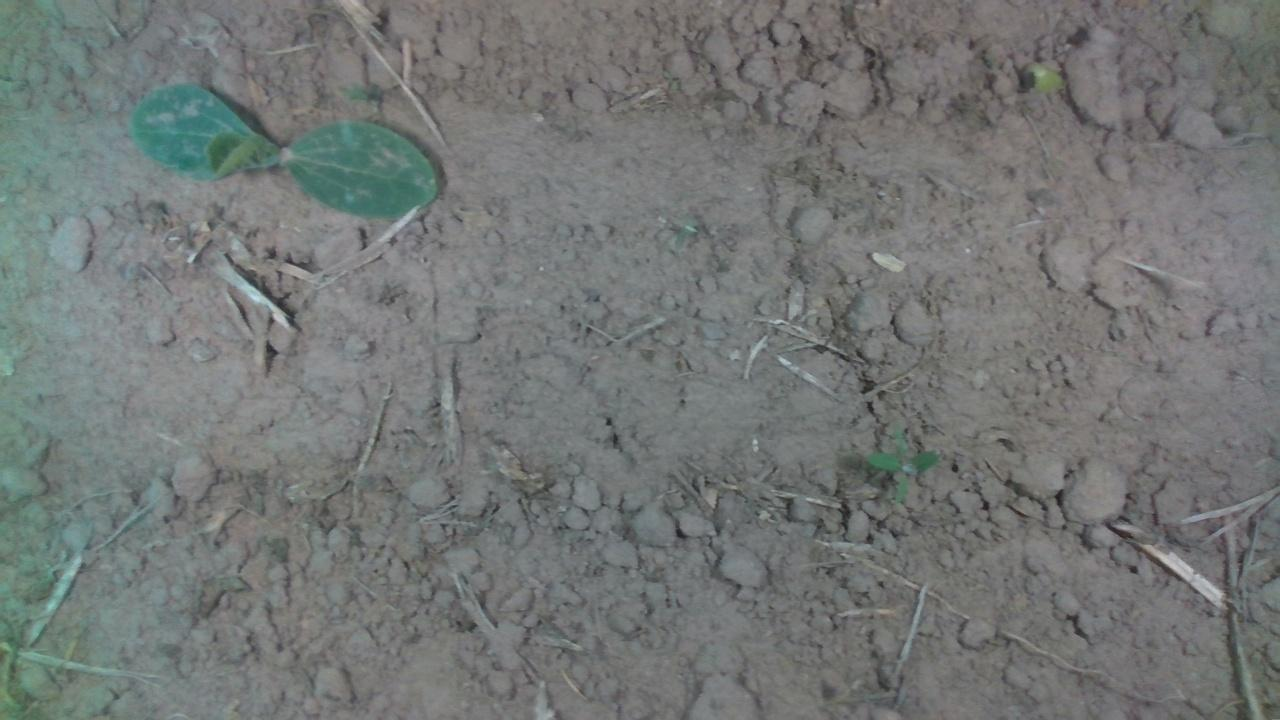crop: (125, 81, 438, 218)
weed: (866, 424, 938, 501)
